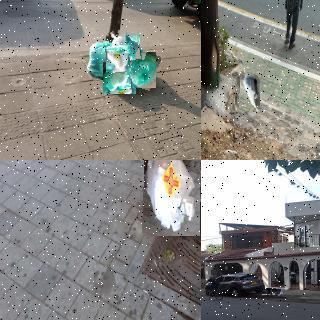Garbage: (143, 160, 200, 236), (129, 50, 159, 90), (85, 39, 113, 79), (103, 62, 136, 94), (240, 74, 260, 112), (106, 46, 130, 72), (108, 30, 129, 54), (124, 35, 142, 62), (272, 288, 281, 296), (263, 288, 273, 295)
